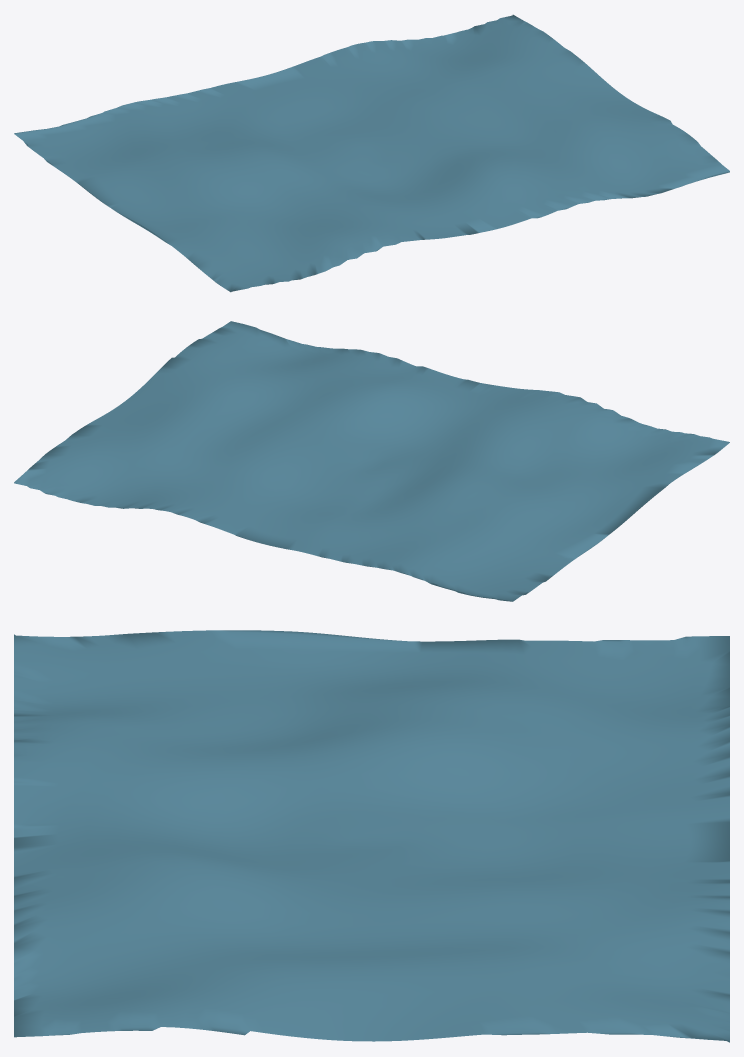
The model's file is water.glb.
3 renders of one model, top to bottom at view 1: azimuth 30°, elevation 25°; view 2: azimuth 150°, elevation 25°; view 3: azimuth 270°, elevation 25°, orthographic. The views are drawn at different scales.
Parts seen in each view (by area): view 1: f_1Shape; view 2: f_1Shape; view 3: f_1Shape.
Part boxes in pixels (x1,y1,x2,y2): f_1Shape: [14, 14, 729, 292]; f_1Shape: [14, 321, 729, 601]; f_1Shape: [14, 630, 729, 1042].
Size of the model in its own units: 0.6081 by 0.0222 by 0.4582.
